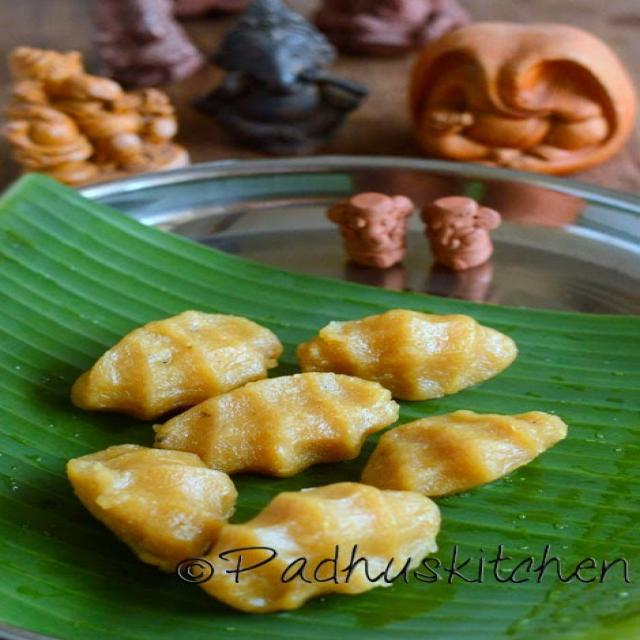pidi kolukattai: (75, 259, 533, 625)
